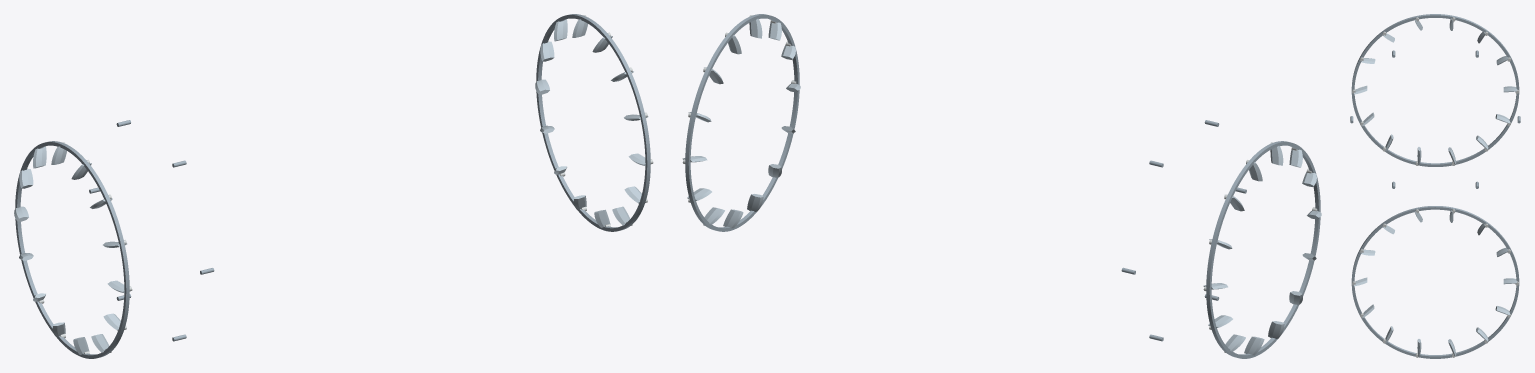
The model's file is bypass-structural-fittings.glb.
3 views of the same model, side by side, from view 1: azimuth 30°, elevation 25°; view 2: azimuth 150°, elevation 25°; view 3: azimuth 270°, elevation 25° (orthographic). The views are drawn at different scales.
Visible parts, largest first — view 1: bypass-structural-fittings - steel, bypass-structural-fittings - blade; view 2: bypass-structural-fittings - steel, bypass-structural-fittings - blade; view 3: bypass-structural-fittings - steel, bypass-structural-fittings - blade, bypass-structural-fittings - fastener.
Part boxes in pixels (x1=…): bypass-structural-fittings - steel: x1=15, y1=14, x2=650, y2=358; bypass-structural-fittings - blade: x1=14, y1=17, x2=653, y2=354; bypass-structural-fittings - steel: x1=685, y1=14, x2=1320, y2=358; bypass-structural-fittings - blade: x1=682, y1=18, x2=1321, y2=355; bypass-structural-fittings - steel: x1=1350, y1=14, x2=1520, y2=358; bypass-structural-fittings - blade: x1=1354, y1=18, x2=1516, y2=356; bypass-structural-fittings - fastener: x1=1352, y1=17, x2=1518, y2=357.
Size of the model in its own units: 5.67 by 2.03 by 2.06.
